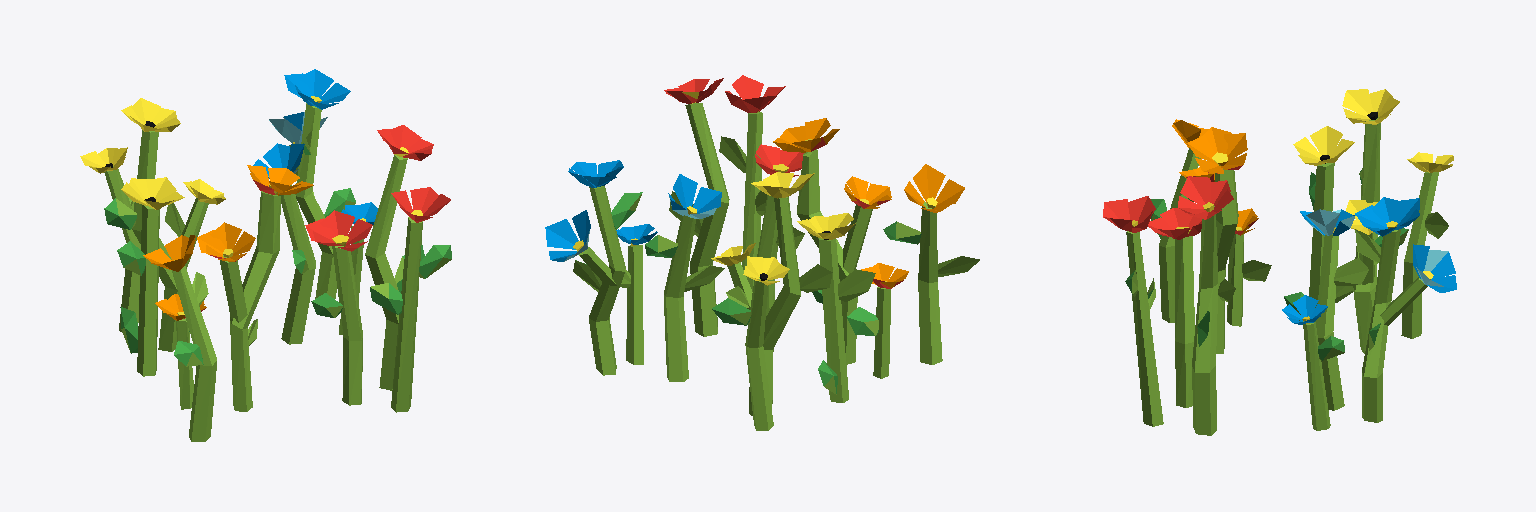
3 views of the same model, side by side, from view 1: azimuth 30°, elevation 25°; view 2: azimuth 150°, elevation 25°; view 3: azimuth 270°, elevation 25° (orthographic).
Parts seen in each view (by area): view 1: group[number redacted], group[number redacted], group[number redacted], group[number redacted], group[number redacted], group[number redacted], group[number redacted], group[number redacted], group[number redacted], group[number redacted], group[number redacted], group[number redacted]; view 2: group[number redacted], group[number redacted], group[number redacted], group[number redacted], group[number redacted], group[number redacted], group[number redacted], group[number redacted], group[number redacted], group[number redacted], group[number redacted], group[number redacted]; view 3: group[number redacted], group[number redacted], group[number redacted], group[number redacted], group[number redacted], group[number redacted], group[number redacted], group[number redacted], group[number redacted], group[number redacted], group[number redacted], group[number redacted].
Boxes of the visible parts, <box> form: group[number redacted]: <box>197,165,313,411</box>; group[number redacted]: <box>370,187,451,412</box>; group[number redacted]: <box>104,98,225,351</box>; group[number redacted]: <box>117,177,184,376</box>; group[number redacted]: <box>269,69,355,298</box>; group[number redacted]: <box>305,210,372,405</box>; group[number redacted]: <box>143,235,216,441</box>; group[number redacted]: <box>365,125,433,390</box>; group[number redacted]: <box>253,143,315,344</box>; group[number redacted]: <box>80,147,140,331</box>; group[number redacted]: <box>155,294,206,409</box>; group[number redacted]: <box>339,202,377,334</box>; group[number redacted]: <box>545,160,642,375</box>; group[number redacted]: <box>711,172,832,415</box>; group[number redacted]: <box>883,164,979,364</box>; group[number redacted]: <box>645,174,724,381</box>; group[number redacted]: <box>773,118,891,364</box>; group[number redacted]: <box>664,78,729,336</box>; group[number redacted]: <box>797,213,875,402</box>; group[number redacted]: <box>712,256,789,430</box>; group[number redacted]: <box>719,75,785,291</box>; group[number redacted]: <box>847,263,908,378</box>; group[number redacted]: <box>616,224,657,364</box>; group[number redacted]: <box>755,144,804,315</box>; group[number redacted]: <box>1355,197,1456,422</box>; group[number redacted]: <box>1178,176,1233,435</box>; group[number redacted]: <box>1342,89,1408,353</box>; group[number redacted]: <box>1103,196,1163,426</box>; group[number redacted]: <box>1179,127,1247,353</box>; group[number redacted]: <box>1284,209,1368,410</box>; group[number redacted]: <box>1148,208,1201,407</box>; group[number redacted]: <box>1293,126,1354,307</box>; group[number redacted]: <box>1401,152,1453,338</box>; group[number redacted]: <box>1282,295,1344,430</box>; group[number redacted]: <box>1151,119,1208,322</box>; group[number redacted]: <box>1227,208,1271,326</box>.
Bounding box in the file's own units: 1.6 × 1.32 × 1.67.